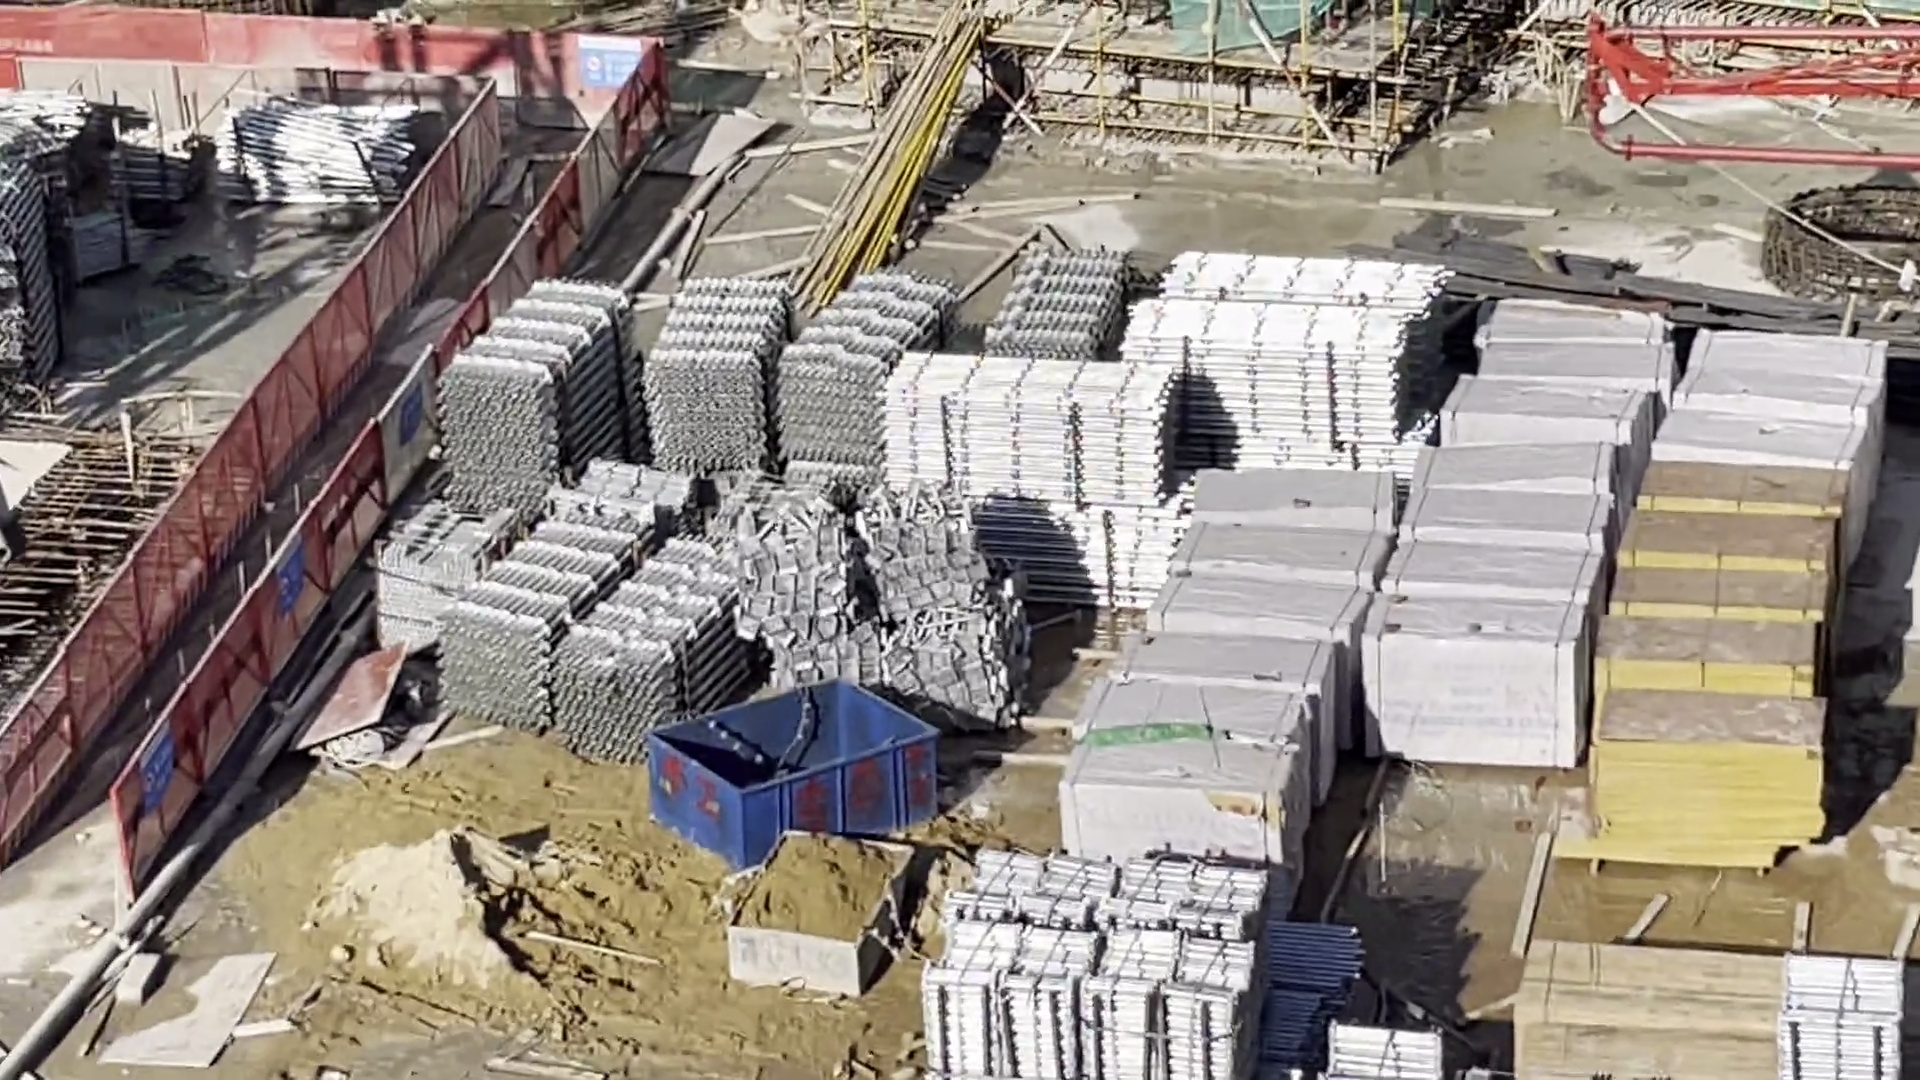board: (1598, 469, 1816, 869), (1526, 938, 1771, 1079)
fence: (12, 87, 622, 851), (4, 3, 574, 135)
hopper: (651, 680, 935, 868), (725, 833, 913, 997)
rebar: (1422, 237, 1908, 377)
scaffold: (1127, 247, 1437, 484), (881, 357, 1170, 611), (938, 873, 1250, 1080), (446, 526, 744, 738), (655, 272, 943, 477), (451, 281, 640, 520), (216, 108, 421, 200), (1778, 957, 1900, 1080), (982, 255, 1116, 364), (1332, 1025, 1440, 1080), (117, 131, 193, 200)
slogan: (578, 37, 646, 87), (142, 720, 170, 808), (274, 537, 302, 612)
